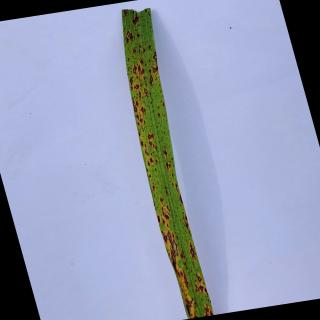Blast: (162, 231, 178, 271), (182, 272, 190, 290), (185, 298, 192, 316), (189, 242, 196, 260), (132, 14, 140, 26), (126, 29, 133, 42), (153, 51, 159, 64), (132, 65, 138, 75), (196, 275, 203, 283), (152, 66, 159, 74), (148, 132, 154, 141), (198, 284, 204, 293), (149, 76, 154, 86), (137, 90, 142, 100), (151, 183, 156, 192), (185, 222, 190, 231), (143, 87, 148, 96), (129, 76, 134, 85), (141, 106, 146, 115), (161, 207, 166, 216), (164, 148, 168, 159), (139, 58, 145, 65), (195, 285, 200, 293), (157, 214, 161, 224), (204, 287, 209, 295), (176, 183, 180, 193), (138, 66, 142, 75), (141, 68, 145, 76), (132, 47, 136, 55), (149, 157, 154, 163), (180, 194, 183, 204), (165, 213, 169, 220), (166, 162, 170, 169), (184, 215, 188, 222), (136, 100, 140, 107), (157, 112, 161, 119), (148, 68, 152, 75), (205, 307, 210, 312), (209, 311, 214, 316), (160, 197, 164, 203), (147, 161, 151, 167), (135, 84, 139, 90), (148, 44, 152, 50), (124, 10, 128, 16), (140, 140, 144, 146), (194, 312, 198, 318), (167, 204, 170, 212), (155, 158, 159, 164), (154, 145, 158, 151), (172, 173, 175, 180), (162, 219, 165, 226), (180, 253, 184, 258), (134, 107, 138, 112), (139, 118, 143, 123), (136, 114, 140, 119), (149, 141, 153, 146), (146, 152, 150, 157), (177, 272, 181, 277), (180, 270, 183, 276), (127, 57, 130, 63), (148, 174, 152, 178), (136, 122, 141, 125), (167, 223, 170, 228), (138, 132, 141, 136), (144, 144, 147, 148), (145, 150, 147, 155)
